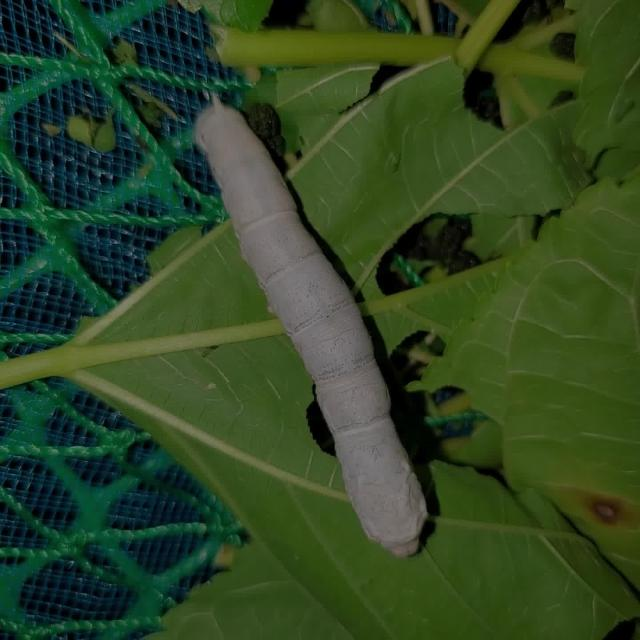Healthy: (182, 70, 469, 571)
